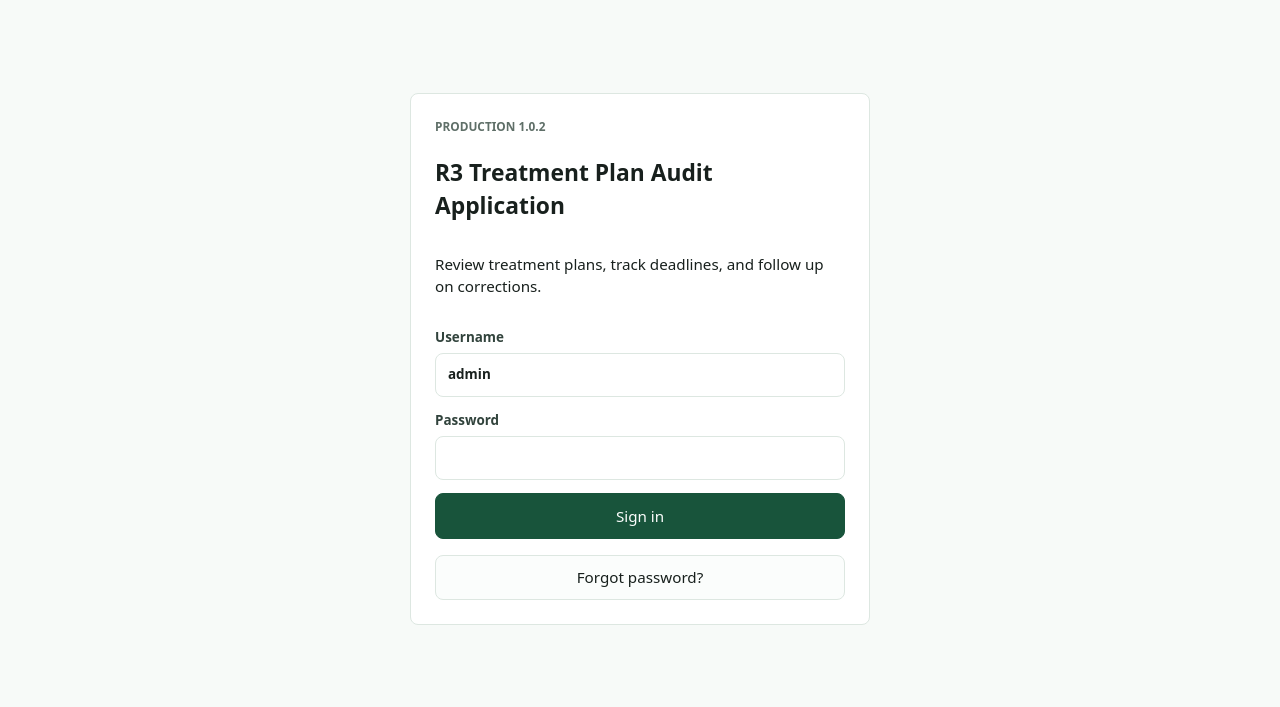
Test: V2 active app shell › shows patient names and opens the complete patient record from the MRN
Type "StrongLocalPass1" into the password field labelled "Password".
click(640, 458); type("StrongLocalPass1")  # box 435,436 -> 845,480
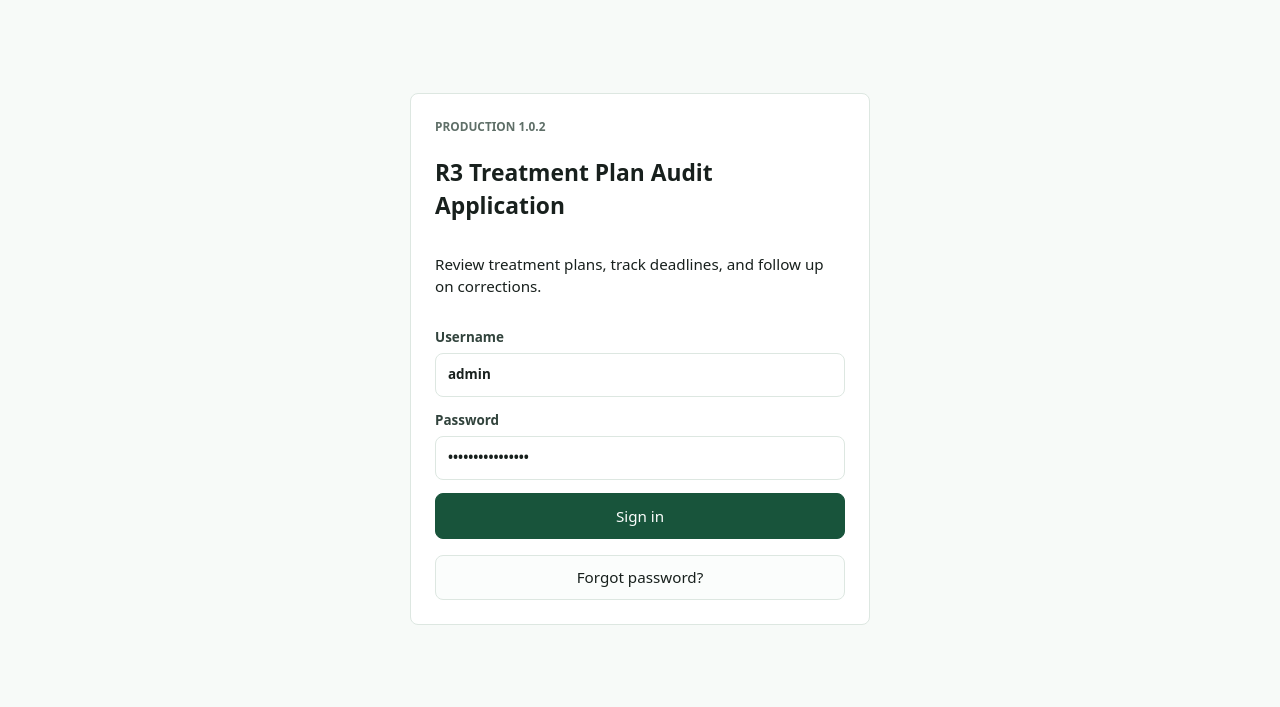
Click the button "Sign in".
click(640, 516)  # box 435,493 -> 845,538
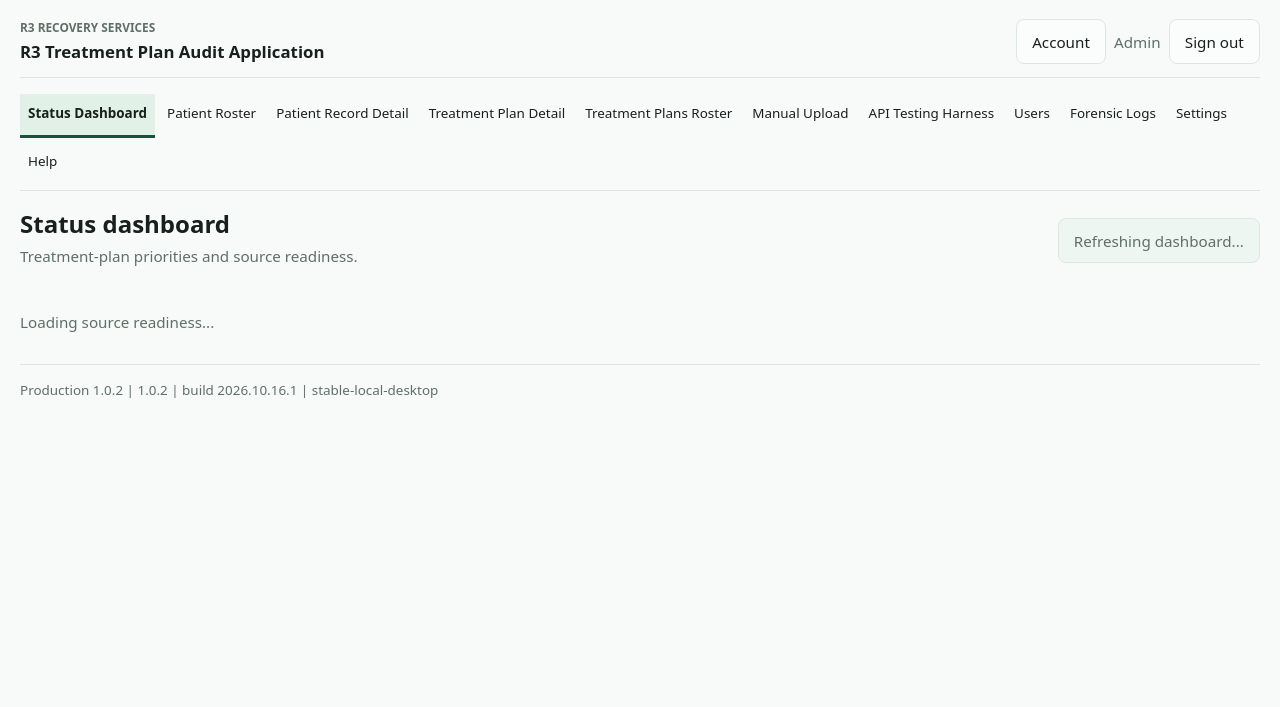
Expected: the navigation bar named "primary navigation" is shown, 20,94 -> 1260,190
Click the button "Patient Roster".
click(212, 116)  # box 159,94 -> 264,138
(page scrolled)
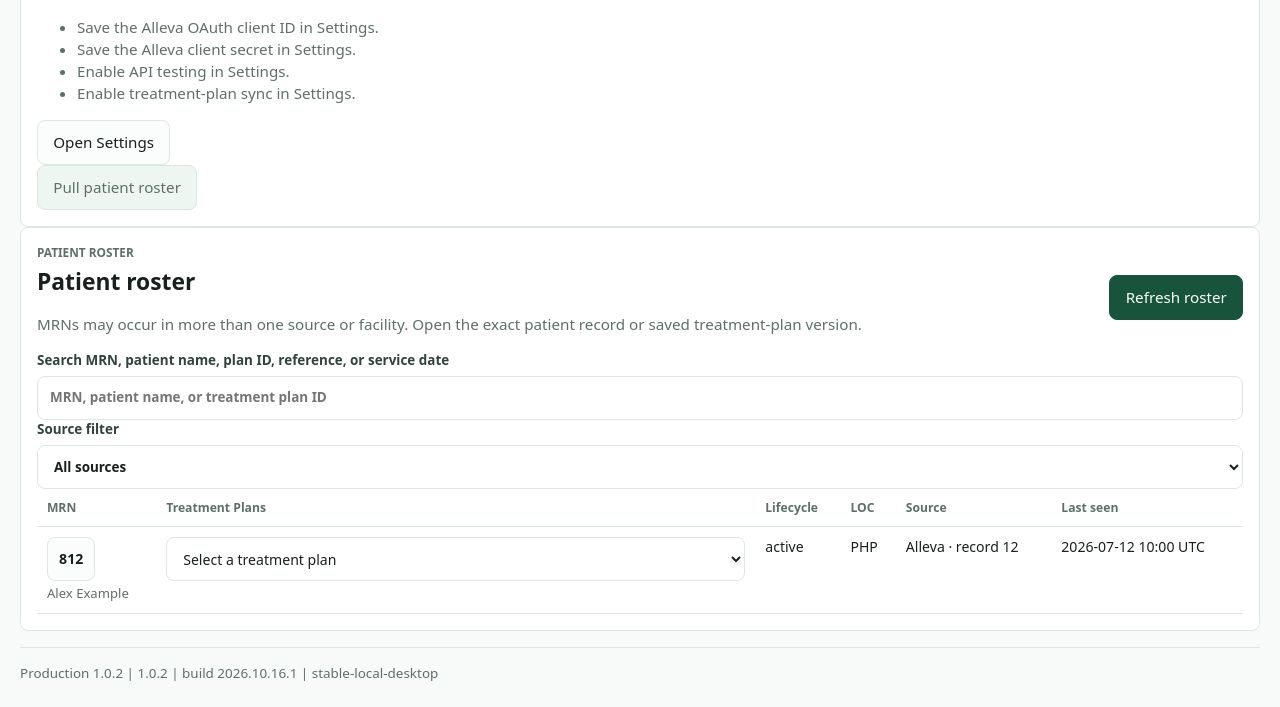
Expected: the heading "Patient roster" is shown, 37,266 -> 195,297
Expected: the button "812" is shown
Expected: the text "Alex Example" is shown, 47,585 -> 129,603
Click the button named "Open patient record for Alex Example, MRN 812".
click(71, 559)  # box 47,537 -> 95,581
(page scrolled)
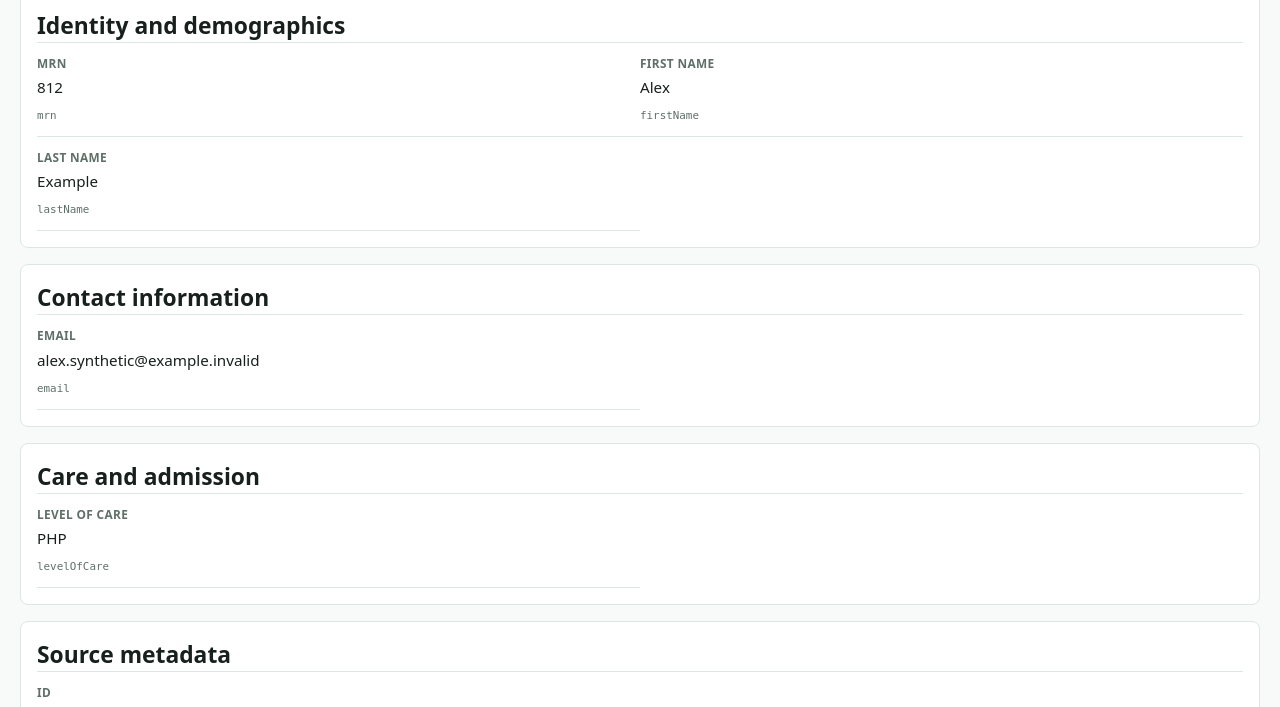
Expected: the text "alex.synthetic@example.invalid" is shown, 37,350 -> 260,370
